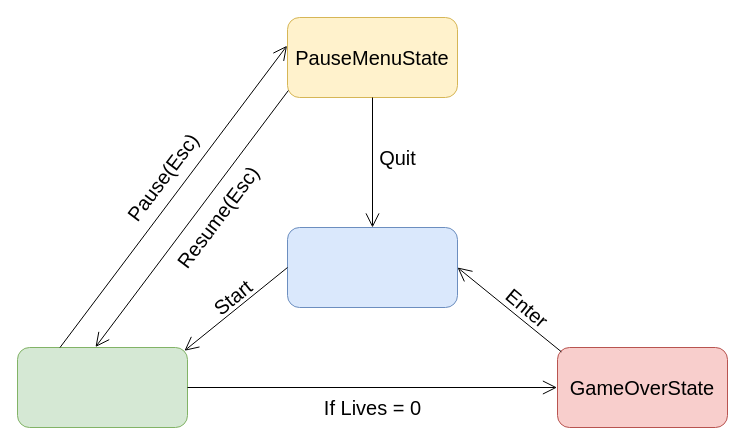
The diagram is 745 pixels wide and 445 high, and some of its shapes have lost their labels. Each missing label, with the centre of its shape:
GameState: pixel 102 387
MenuState: pixel 372 267
